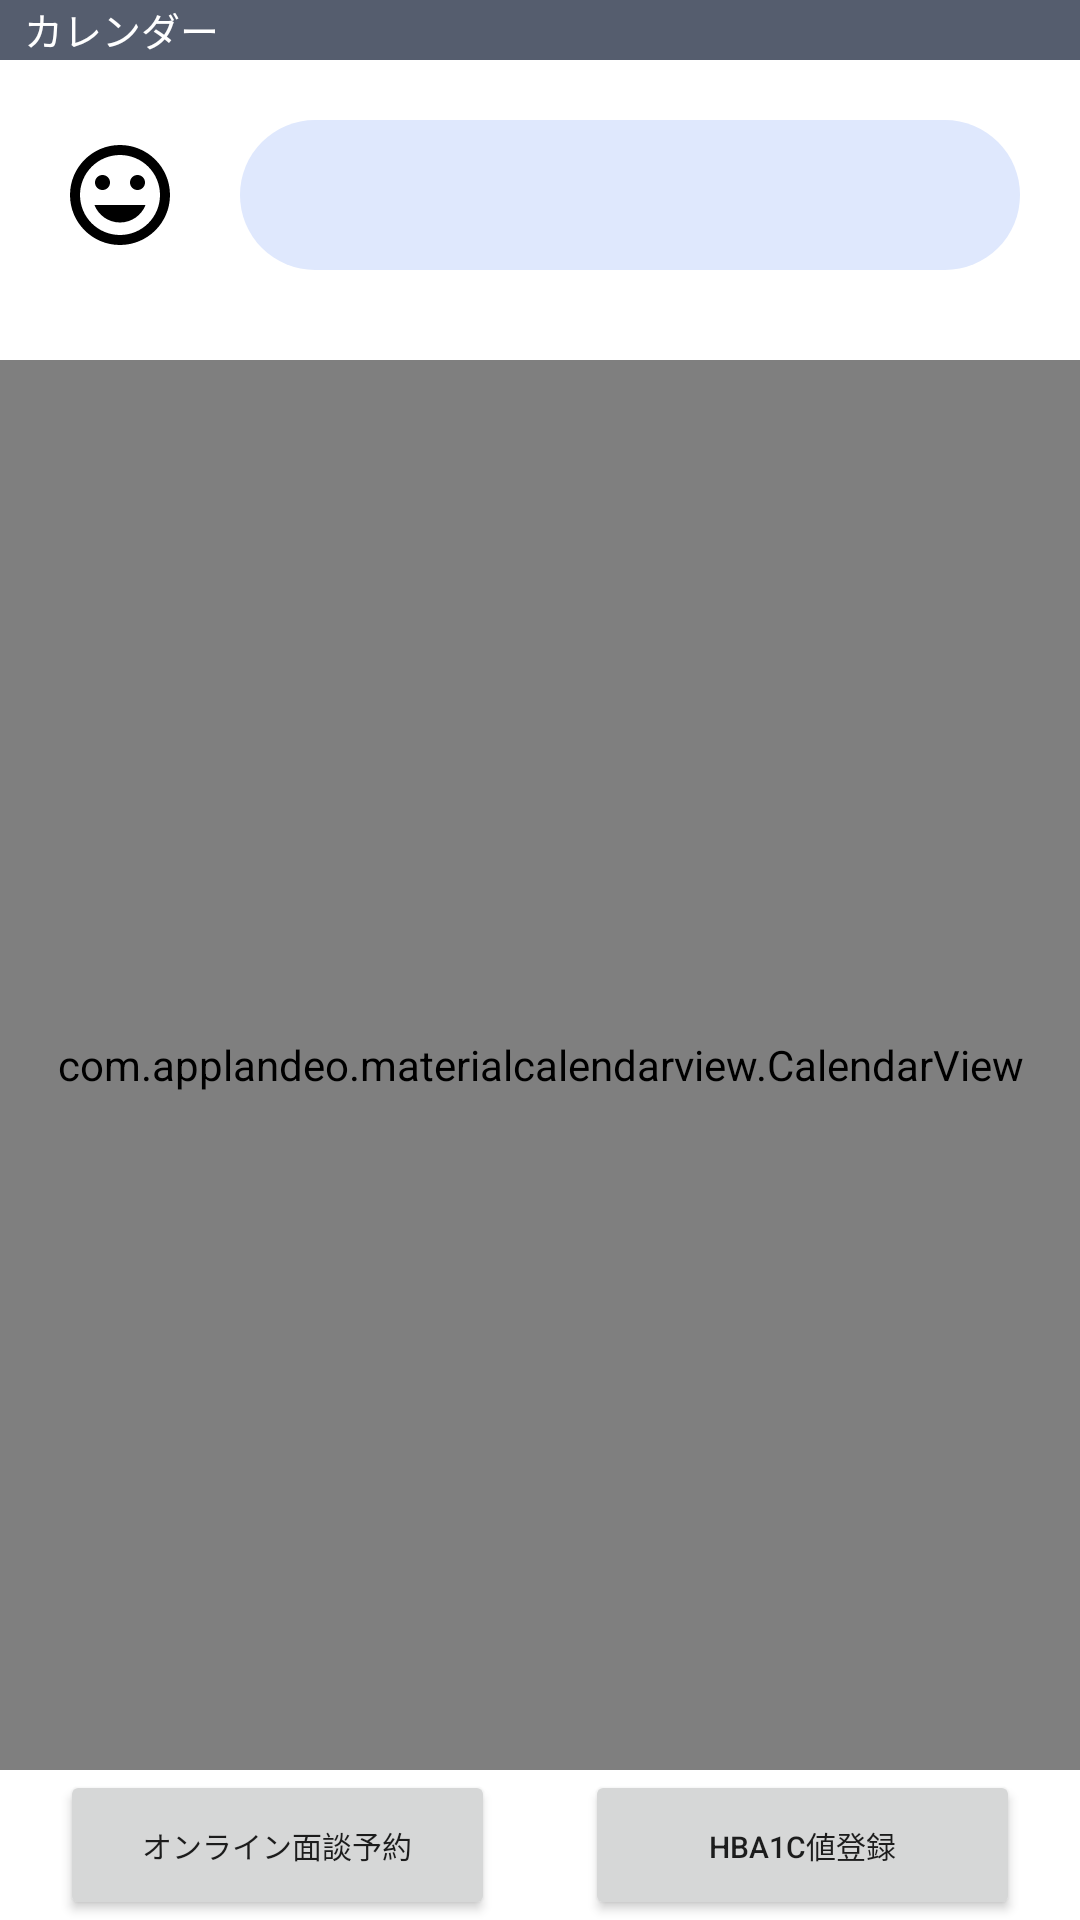

Point at icon controls on the screen. Image size 1080×1920, points as (x,y).
mood: (120,195)
